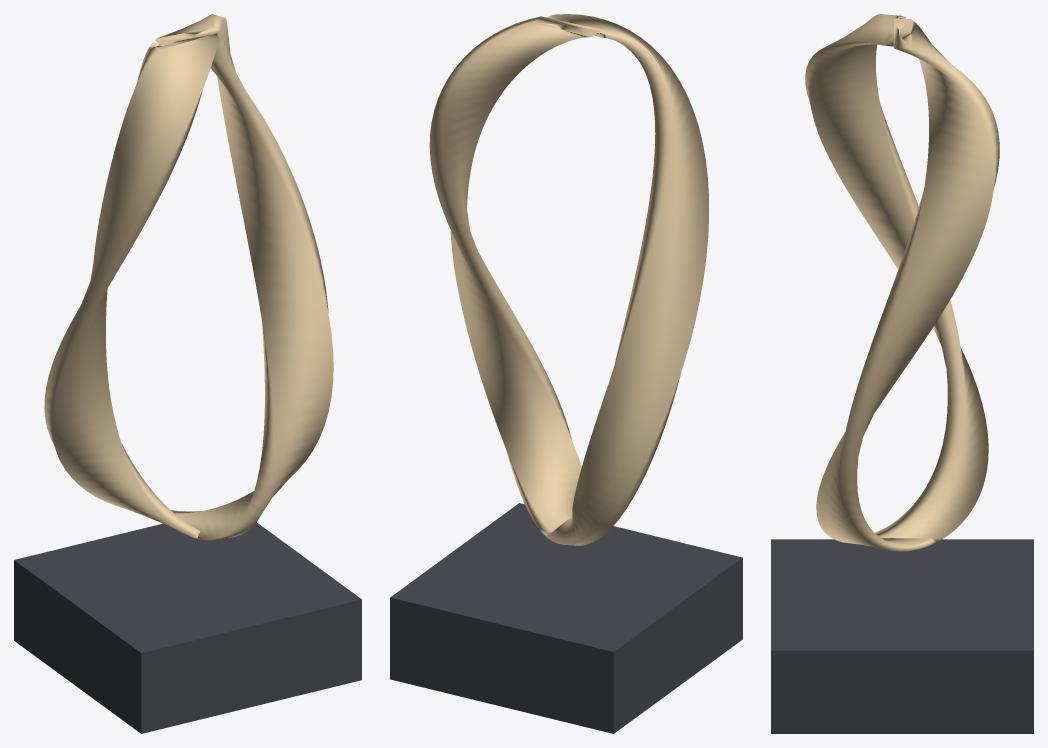
Rendered from monolith_plaza.glb.
3 views of the same model, side by side, from view 1: azimuth 30°, elevation 25°; view 2: azimuth 150°, elevation 25°; view 3: azimuth 270°, elevation 25° (orthographic). The views are drawn at different scales.
Parts seen in each view (by area): view 1: monolith_plaza_QuantizedMesh; view 2: monolith_plaza_QuantizedMesh; view 3: monolith_plaza_QuantizedMesh.
Part boxes in pixels (x1,y1,x2,y2): monolith_plaza_QuantizedMesh: (14, 14, 361, 733); monolith_plaza_QuantizedMesh: (390, 14, 742, 733); monolith_plaza_QuantizedMesh: (771, 14, 1033, 733).
Size of the model in its own units: 0.769 by 1.84 by 0.68.
